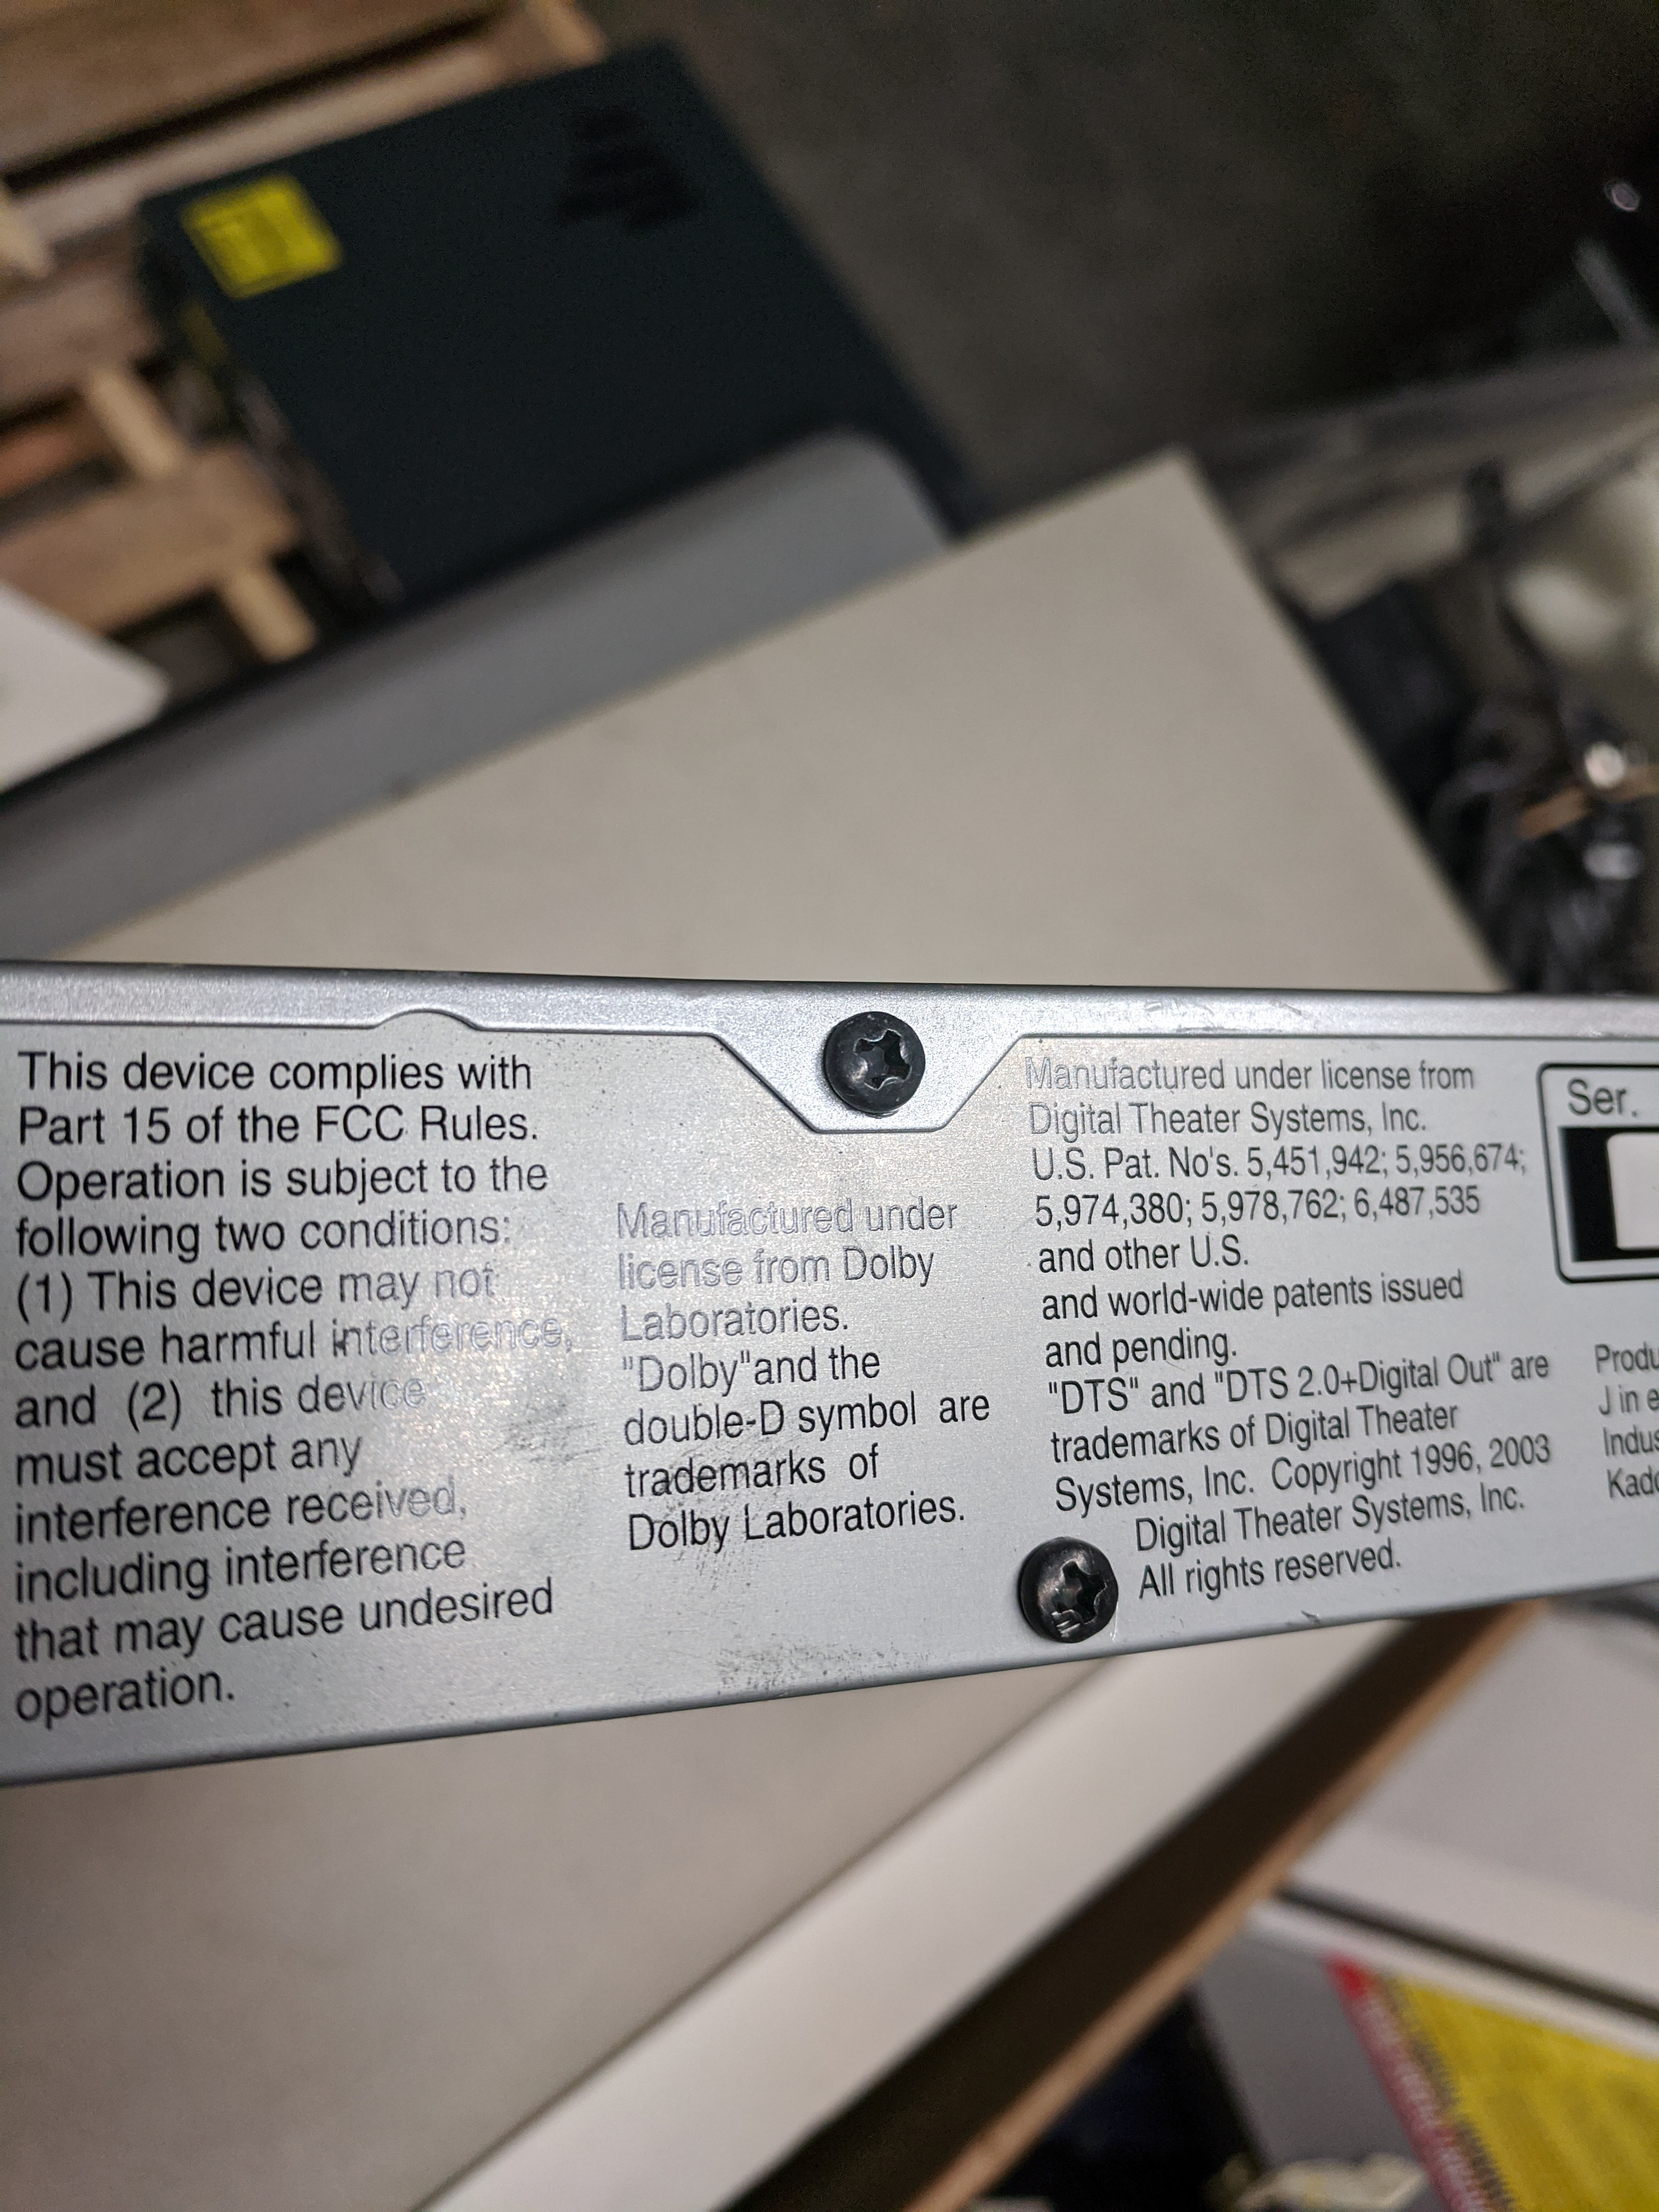cross_recessed_screw: (1011, 1519, 1140, 1667), (817, 1001, 934, 1116)
